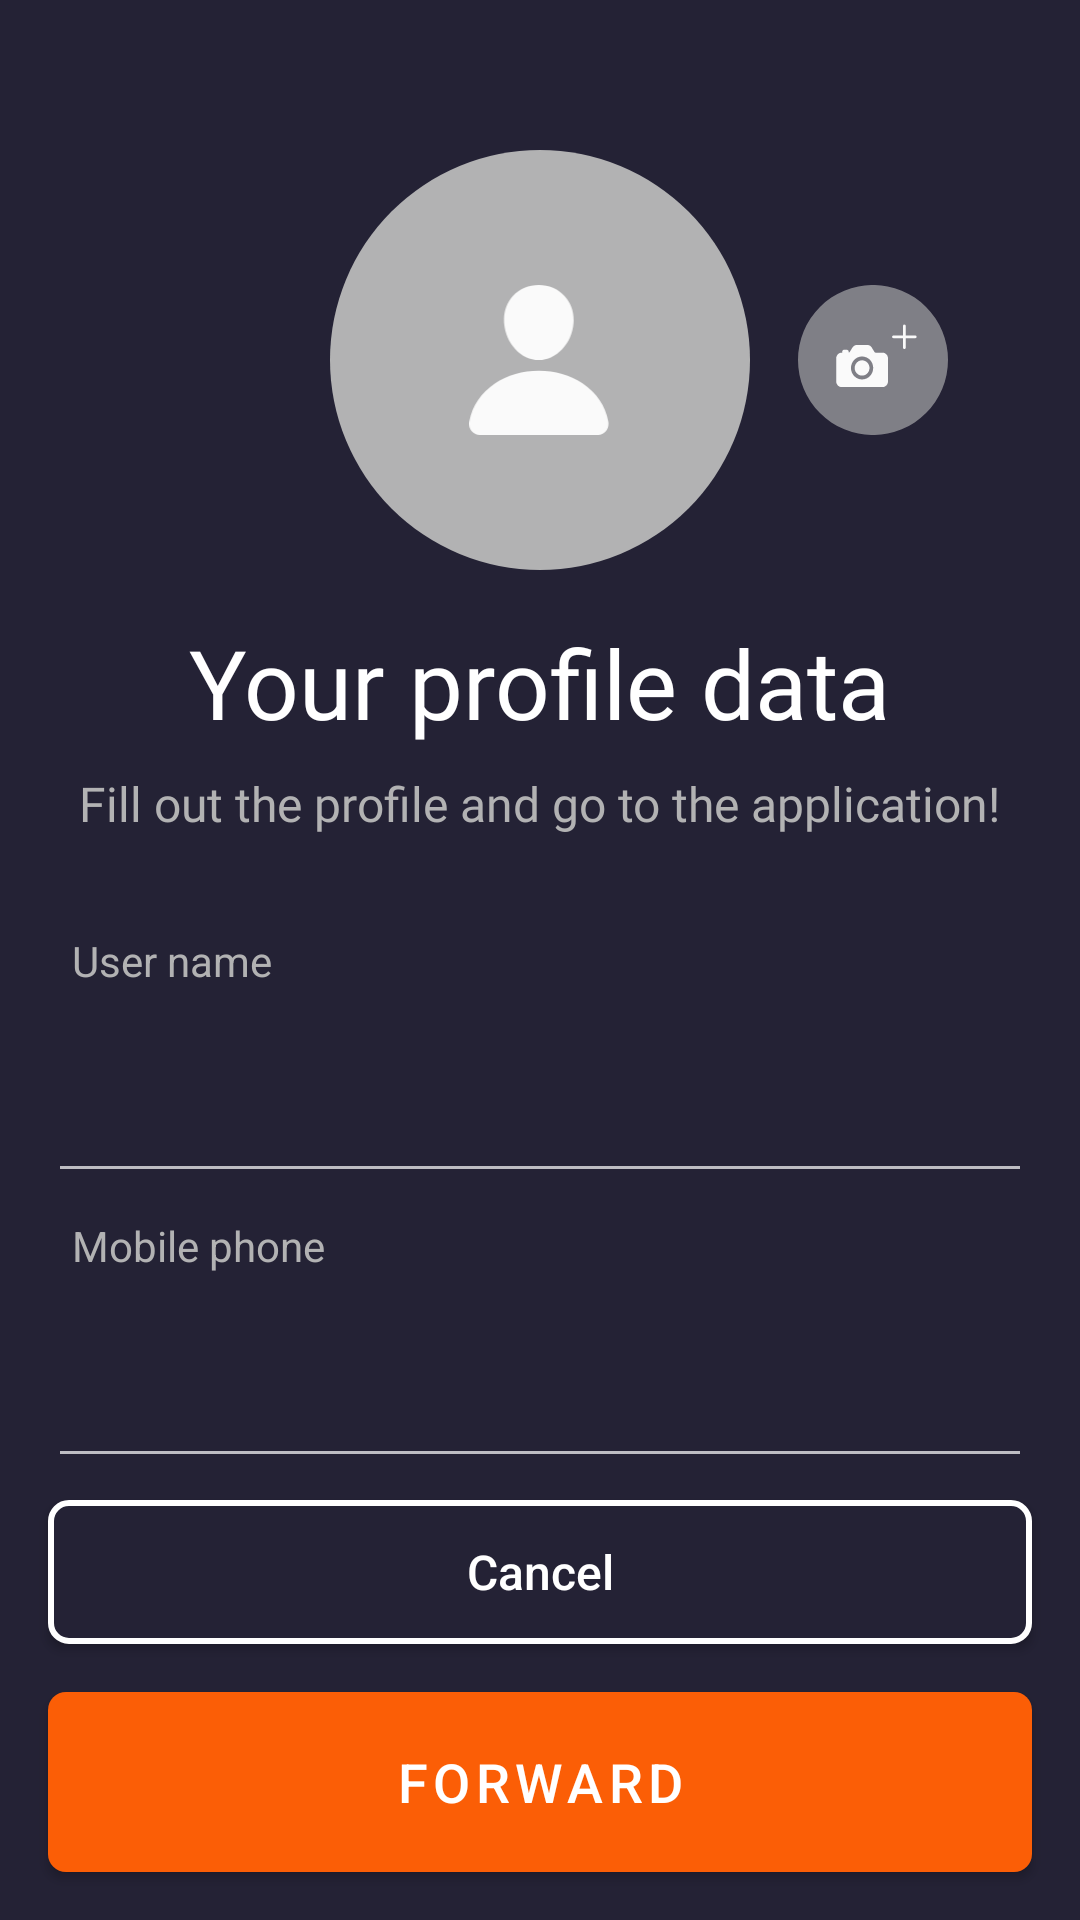

Icons on this 1080w x 1920h Android screen, each with the point to tap as point (x, y):
add photo: point (873, 360)
